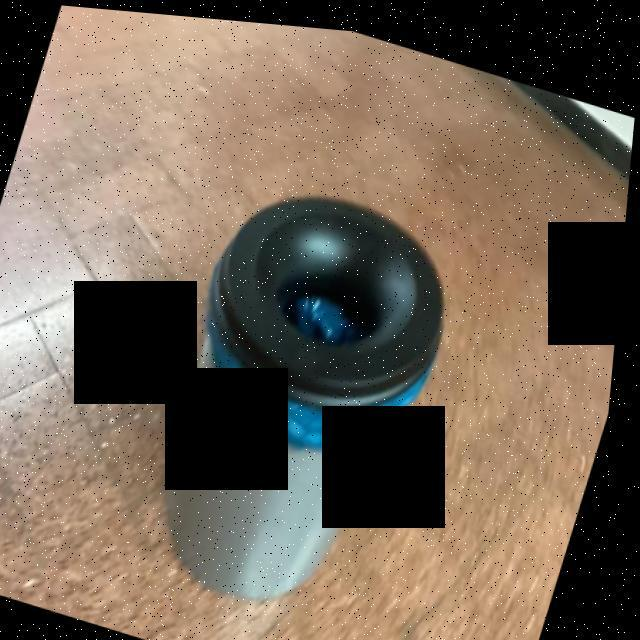bin: (124, 136, 487, 638)
